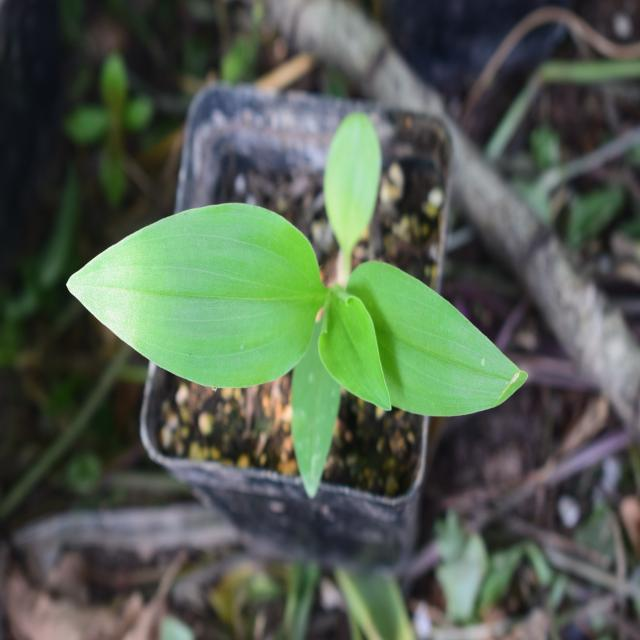Common Dayflower: (82, 181, 524, 494)
